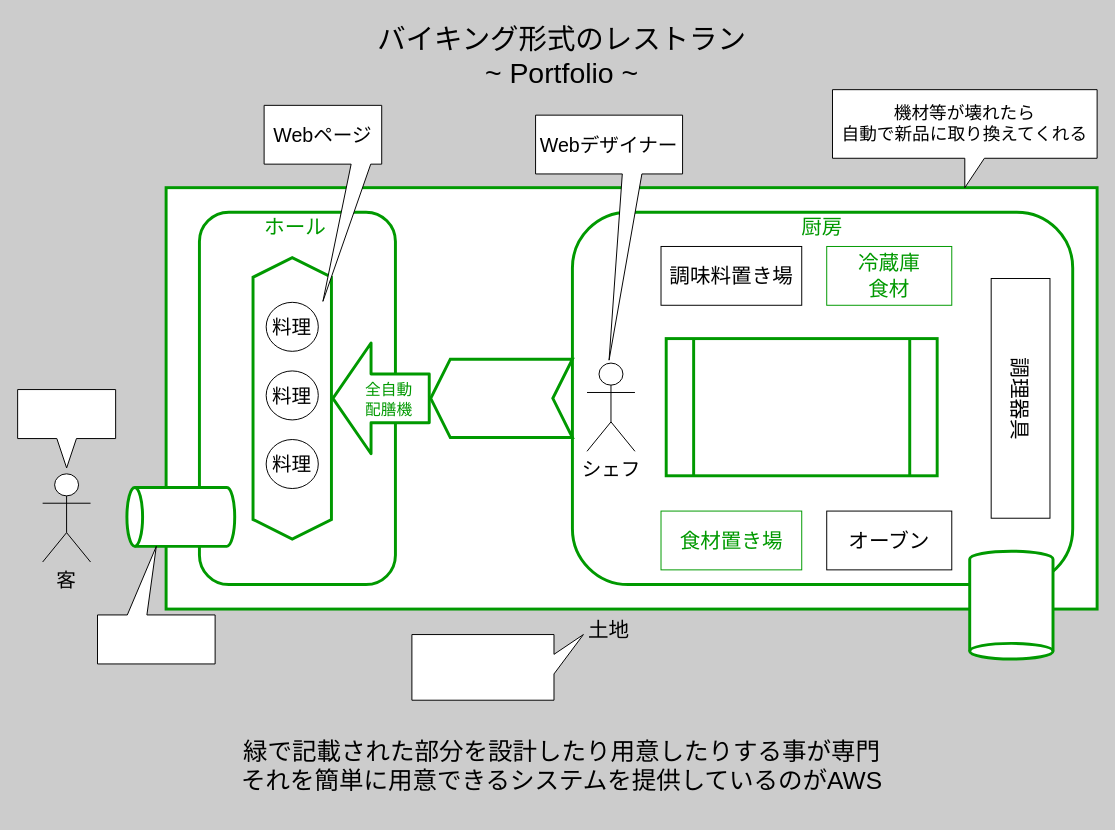
The diagram is 1115 pixels wide and 830 high, and some of its shapes have lost their labels. Each missing label, with the box of its shape:
URL: (97, 545, 215, 664)
コンピュータ (サーバー): (411, 634, 583, 700)
スタッフ専用入口: (968, 549, 1054, 660)
ブラウザ: (17, 389, 116, 468)
作業テーブル: (664, 337, 938, 477)
入口: (125, 486, 236, 547)
全自動 食品検査機: (429, 357, 573, 439)
